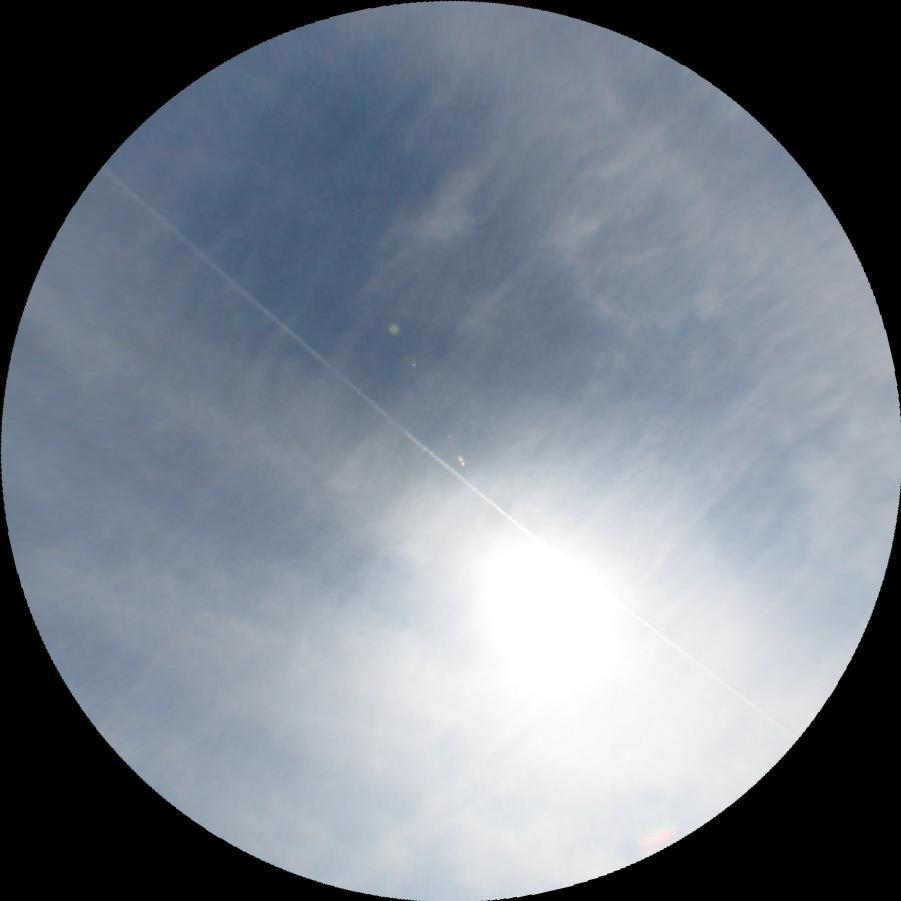contrail old: (92, 163, 797, 748)
sun: (436, 514, 643, 722)
